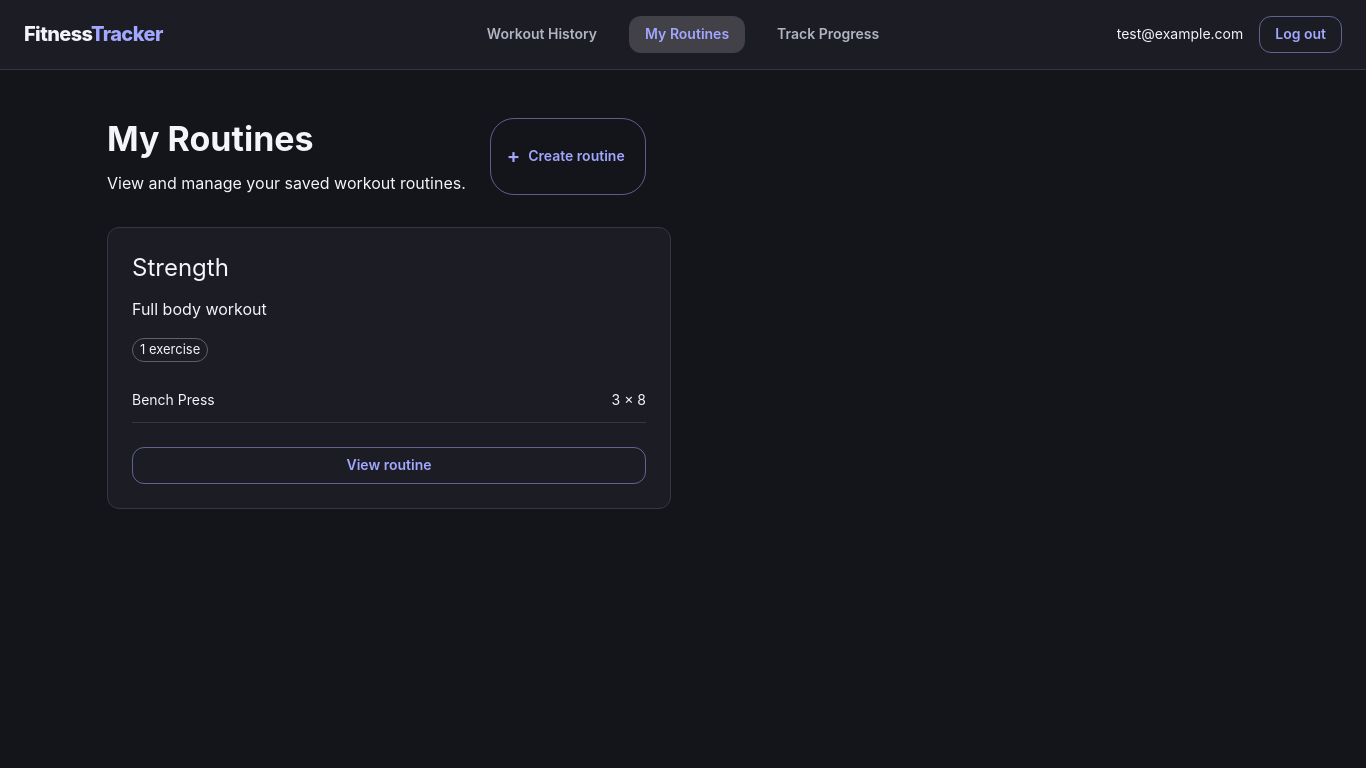
Scenario: Routines › lists saved routines and opens their details
The image size is (1366, 768).
Expected: the text "Full body workout" is shown, 132,298 -> 267,318
Expected: the text "Bench Press" is shown, 132,390 -> 215,410
Click the link "View routine" at (389, 466), box 132,447 -> 646,484
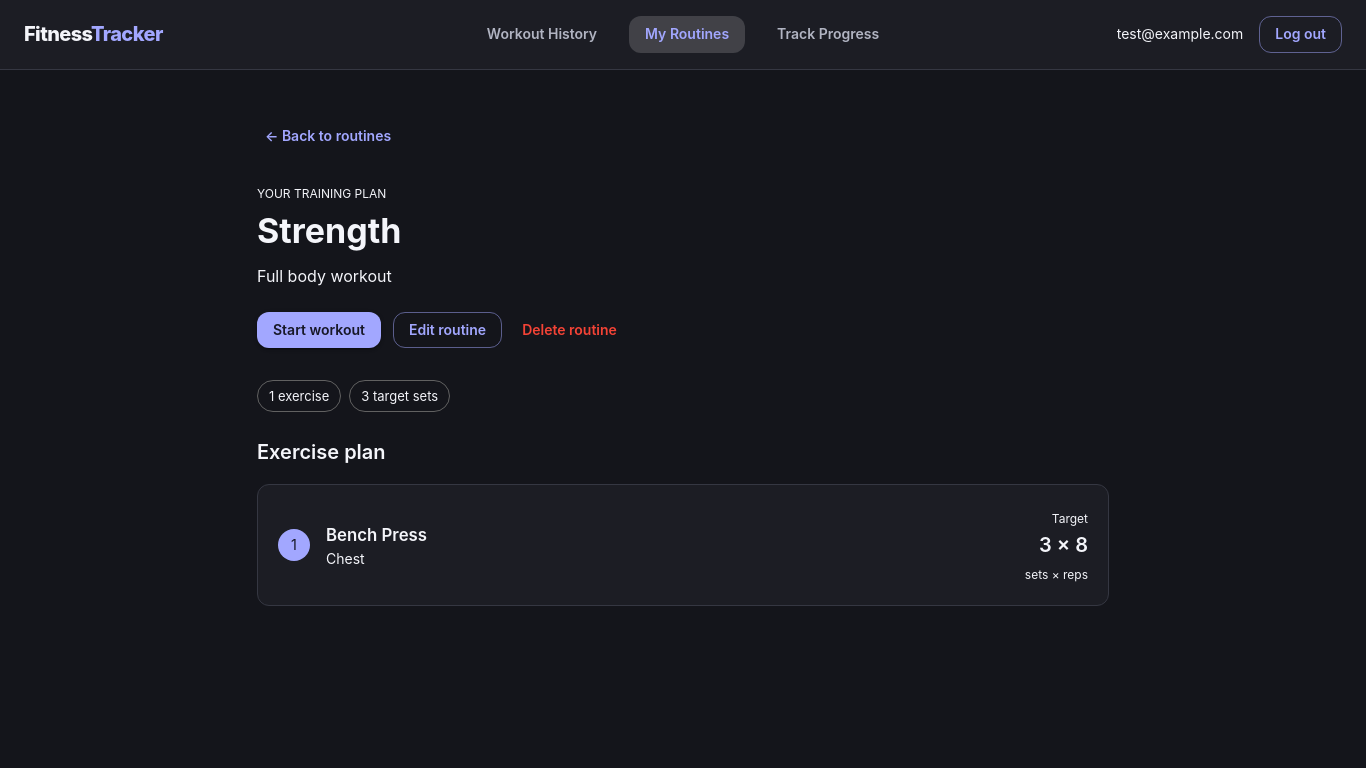
Expected: the text "Bench Press" shows "3 × 8", 326,525 -> 427,545
Now the heading "Strength" is shown, box 257,210 -> 401,251
